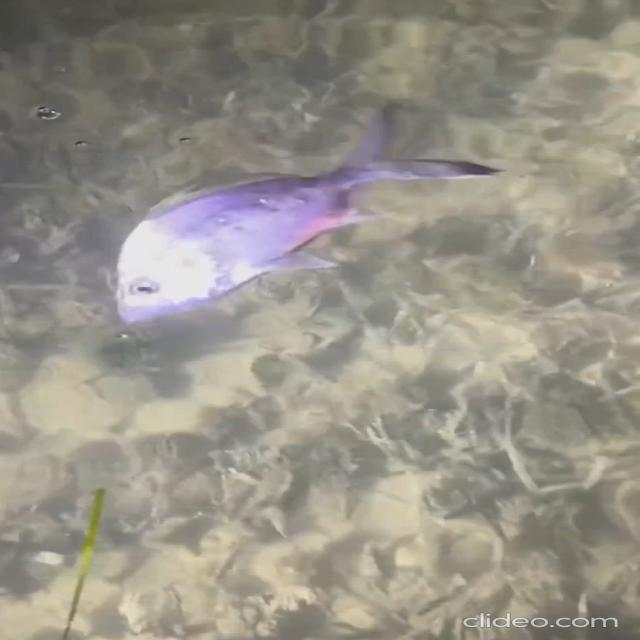fish: (100, 149, 556, 330)
